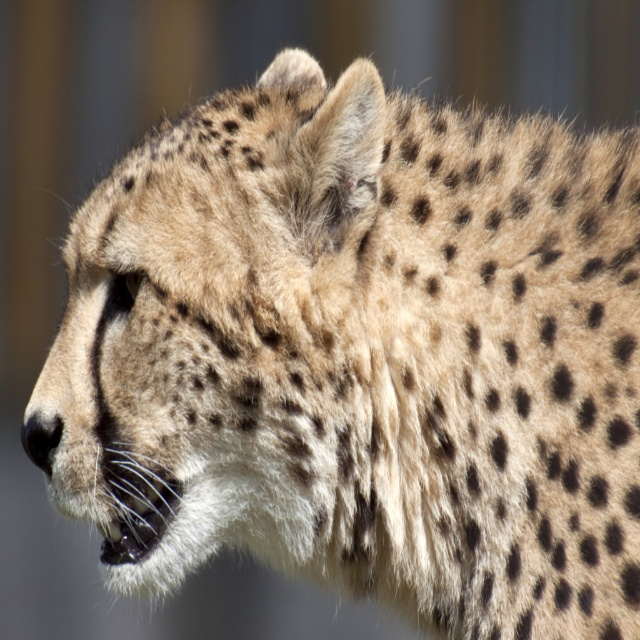Leopard: (20, 49, 640, 639)
